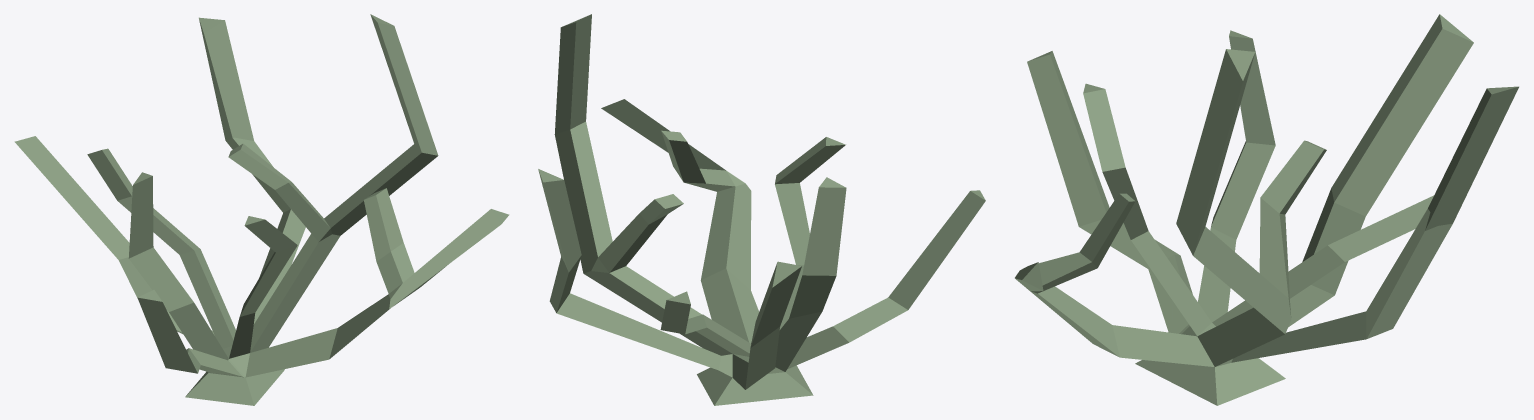
The model's file is plant.fbx.
3 renders of one model, left to right at view 1: azimuth 30°, elevation 25°; view 2: azimuth 150°, elevation 25°; view 3: azimuth 270°, elevation 25°, orthographic. The views are drawn at different scales.
Visible parts, largest first — view 1: Plant; view 2: Plant; view 3: Plant.
Boxes of the visible parts, bbox=[...] form: Plant: bbox=[14, 14, 509, 405]; Plant: bbox=[538, 14, 985, 405]; Plant: bbox=[1015, 14, 1518, 405].
Bounding box in the file's own units: 1.93 × 1.61 × 1.76.
